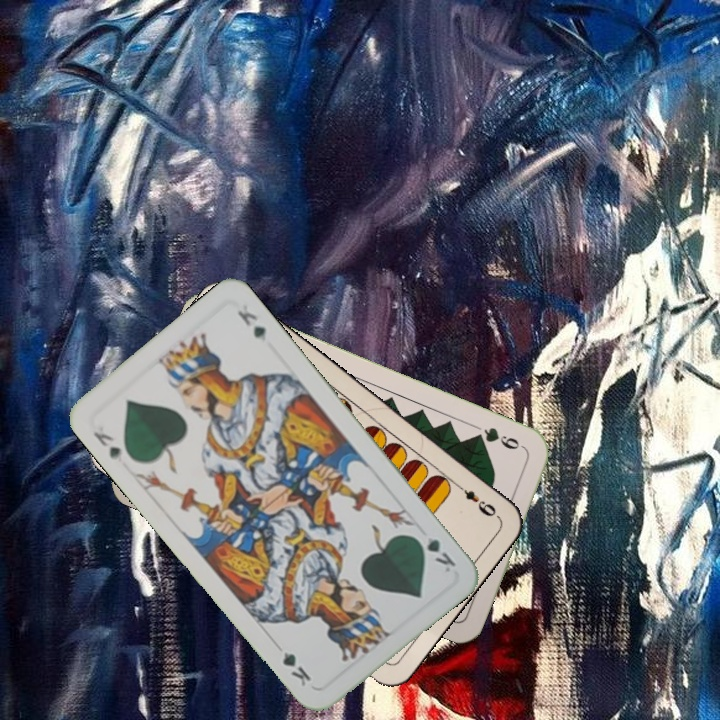E9: (451, 479, 501, 520)
G9: (470, 423, 529, 453)
GK: (410, 531, 459, 575), (89, 427, 125, 465)
